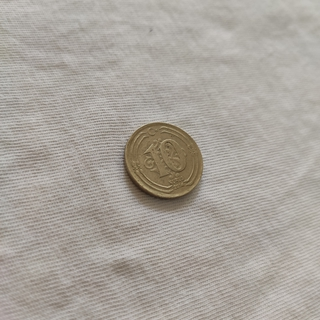10KURUS: (121, 120, 204, 201)
